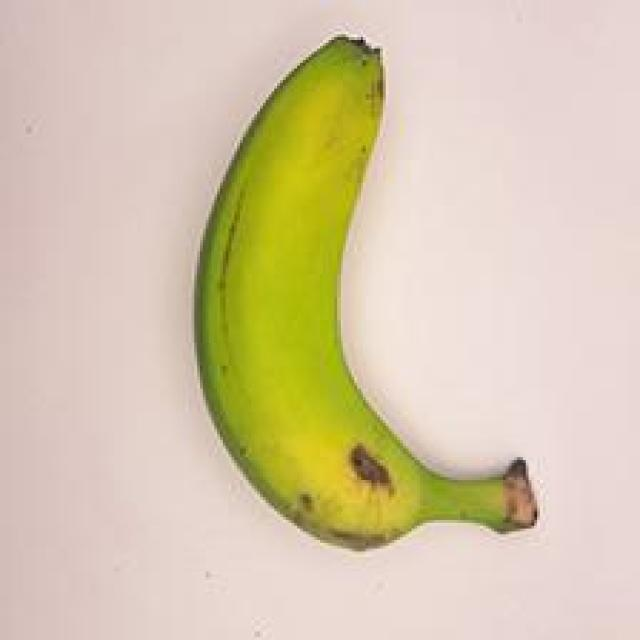Unripe: (158, 6, 573, 567)
